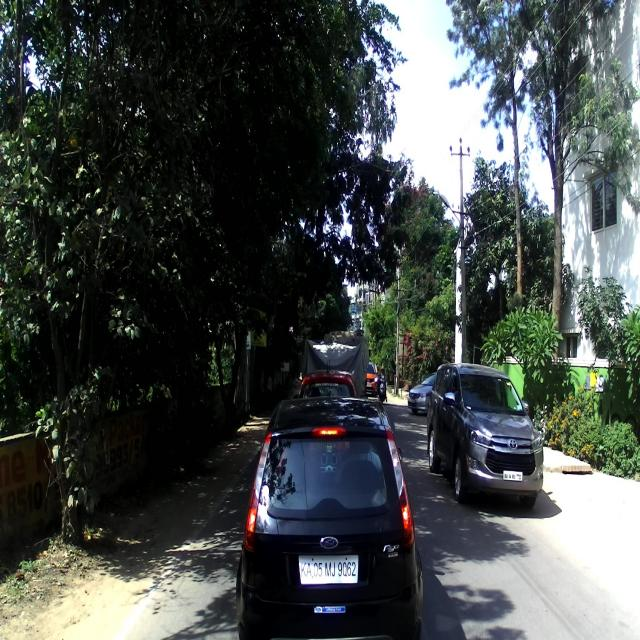Car_Ford: (235, 357, 427, 636)
Car_Toyota: (427, 362, 545, 509)
